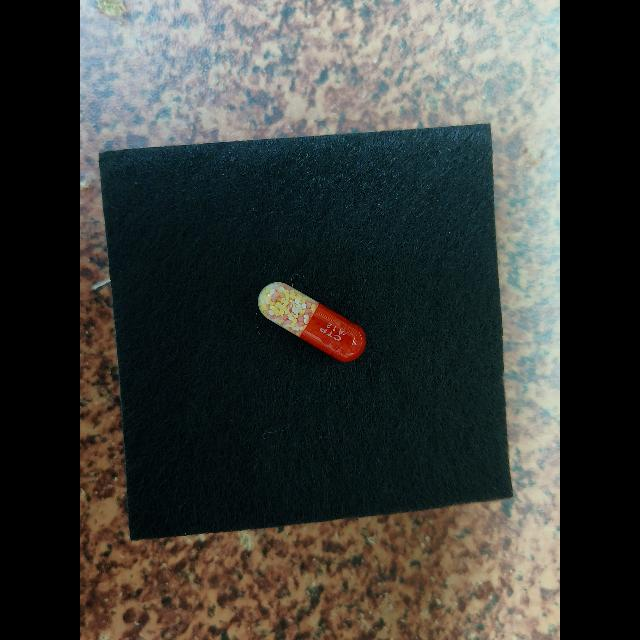Intact Capsule: (258, 282, 366, 362)
